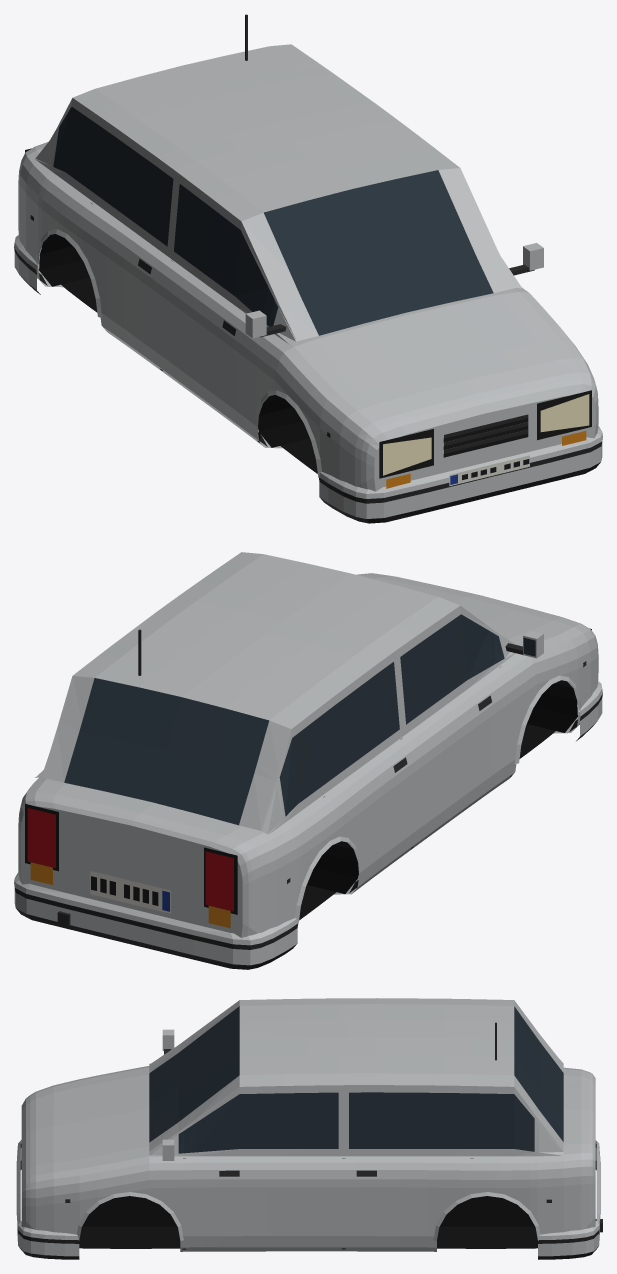
File: vega-cordel.glb
3 renders of one model, top to bottom at view 1: azimuth 30°, elevation 25°; view 2: azimuth 150°, elevation 25°; view 3: azimuth 270°, elevation 25°, orthographic. The views are drawn at different scales.
Visible parts, largest first — view 1: LOD0, door_FR, door_RR; view 2: LOD0, door_FR, door_RR; view 3: LOD0, door_FL, door_RL.
Boxes of the visible parts, box(x1,y1,x2,y2) form: LOD0: box(14, 14, 602, 523); door_FR: box(159, 175, 275, 438); door_RR: box(77, 116, 174, 366); LOD0: box(14, 552, 602, 969); door_FR: box(399, 605, 514, 844); door_RR: box(317, 653, 414, 886); LOD0: box(16, 998, 602, 1259); door_FL: box(184, 1085, 341, 1247); door_RL: box(345, 1085, 471, 1247).
Size of what is drawn, in the model's own units: 1.88 by 1.58 by 4.05.
